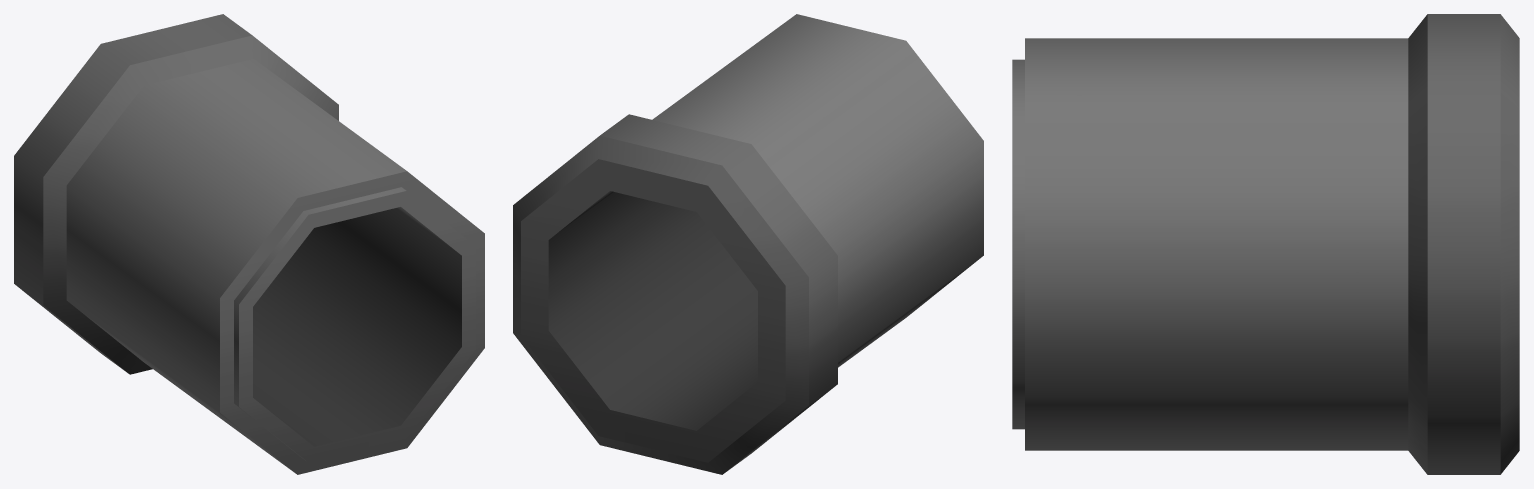
File: Pipe_C_4_3.fbx
The picture shows the model from 3 angles, left to right: view 1: azimuth 30°, elevation 25°; view 2: azimuth 150°, elevation 25°; view 3: azimuth 270°, elevation 25°; orthographic projection. The views are drawn at different scales.
Visible parts, largest first — view 1: Pipe_C_4_3; view 2: Pipe_C_4_3; view 3: Pipe_C_4_3.
Part boxes in pixels (x1,y1,x2,y2): Pipe_C_4_3: (14, 14, 484, 474); Pipe_C_4_3: (513, 14, 983, 474); Pipe_C_4_3: (1012, 14, 1519, 474).
Bounding box in the file's own units: 128 × 128 × 152.
